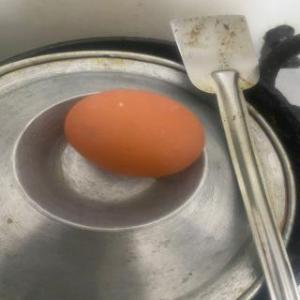egg: (65, 87, 209, 179)
